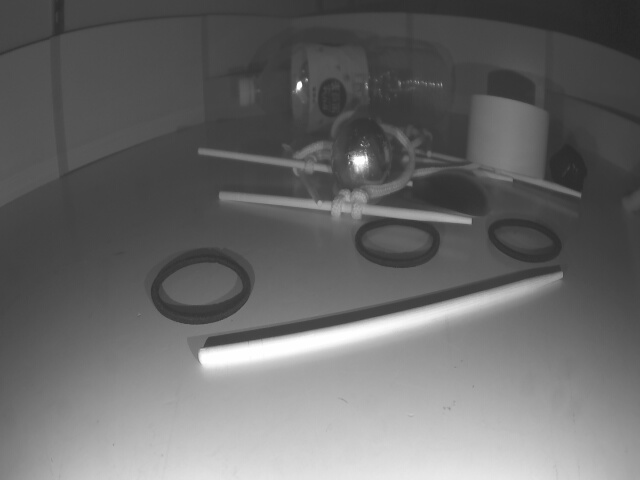Dead: (551, 145, 583, 191)
Live: (333, 119, 392, 190)
Point: (550, 91, 640, 178), (202, 58, 256, 113)
